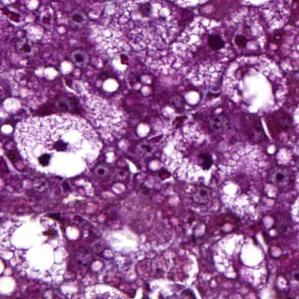ballooning: (11, 111, 105, 180), (218, 52, 291, 119), (211, 230, 272, 292)
